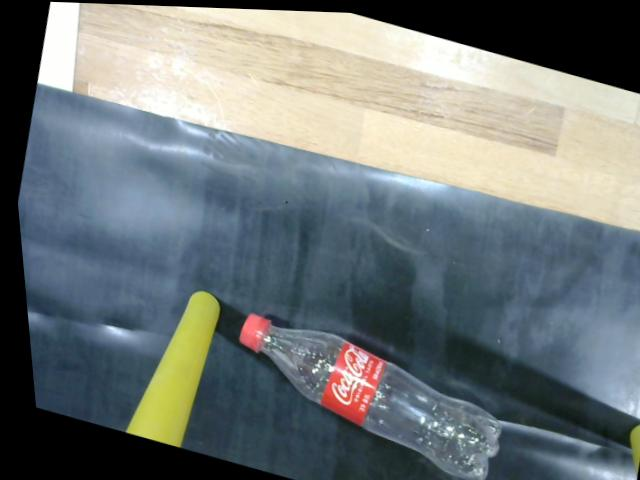bottle: (223, 303, 498, 480)
